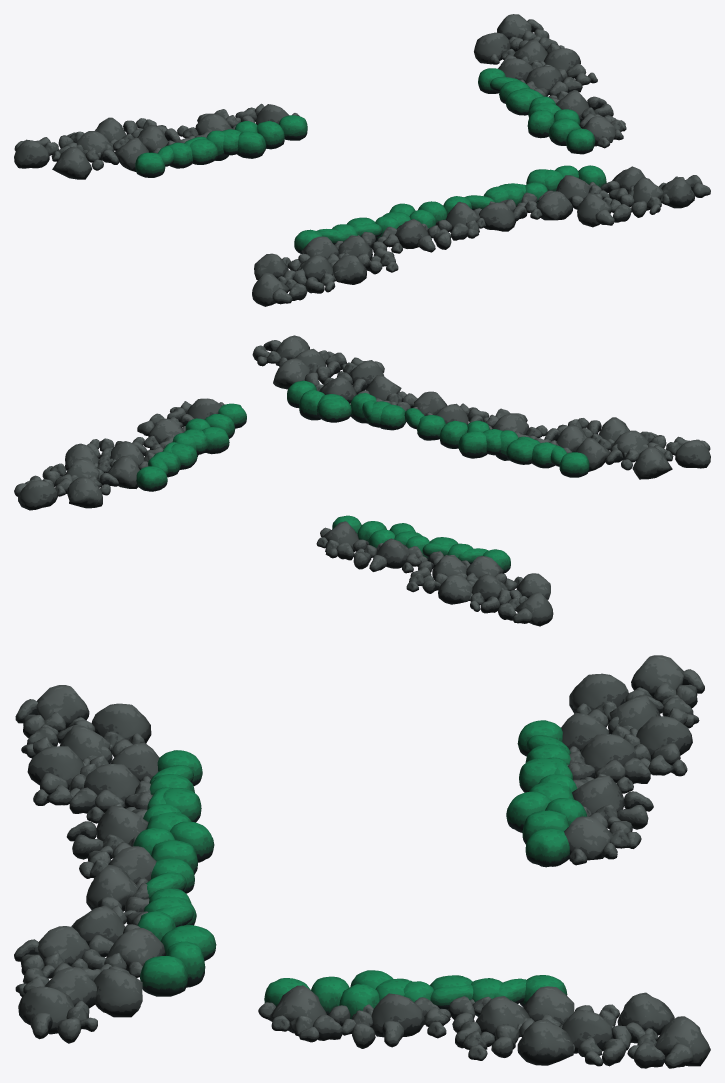
Rendered from Props lvl 6.fbx.
3 views of the same model, one above another, from view 1: azimuth 30°, elevation 25°; view 2: azimuth 150°, elevation 25°; view 3: azimuth 270°, elevation 25° (orthographic). The views are drawn at different scales.
Parts seen in each view (by area): view 1: rock.008; view 2: rock.008; view 3: rock.008.
Boxes of the visible parts, x1,y1,x2,y2 form: rock.008: (14, 14, 710, 306); rock.008: (14, 335, 710, 626); rock.008: (14, 655, 710, 1068).
Bounding box in the file's own units: 3193 × 172 × 2385.
